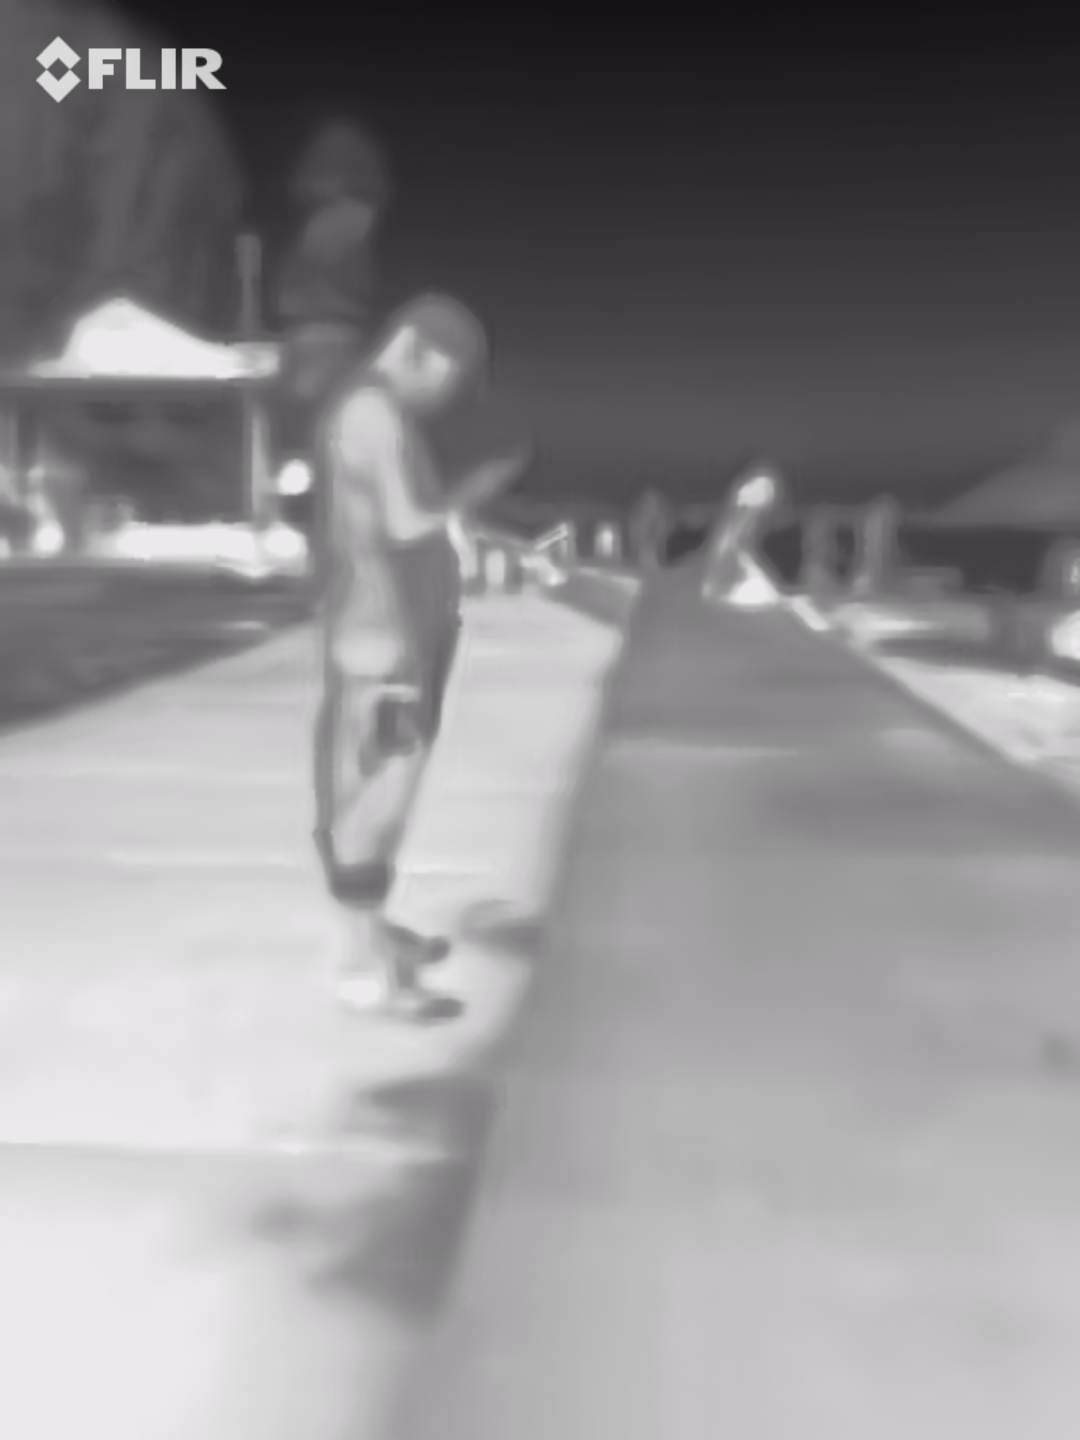head: (373, 291, 485, 415)
